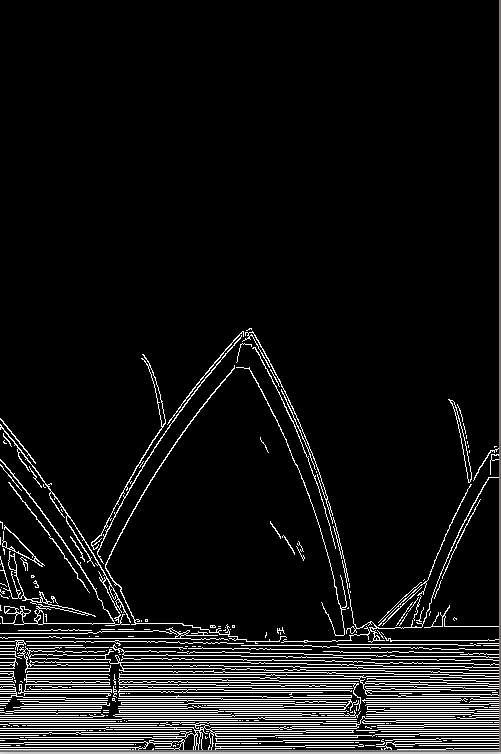opera house: (3, 309, 501, 651)
